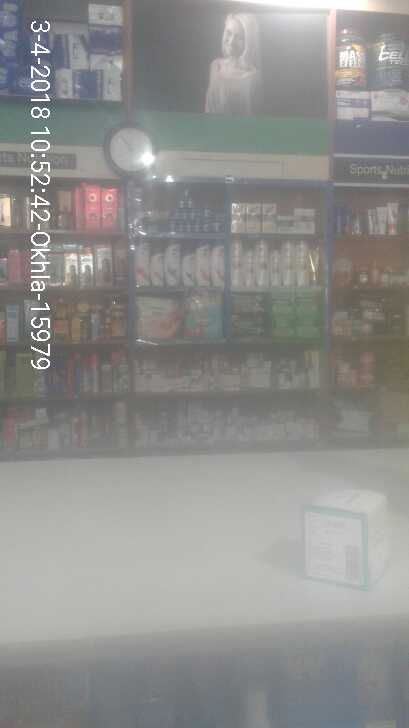vicks: (168, 186, 223, 232)
